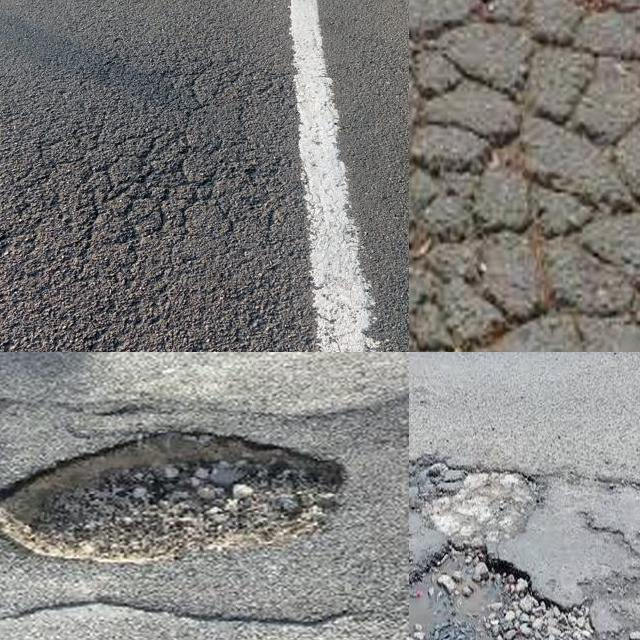Lubang: (0, 427, 346, 568), (409, 548, 593, 640)
Retak Buaya: (409, 0, 640, 352), (0, 64, 288, 295)
